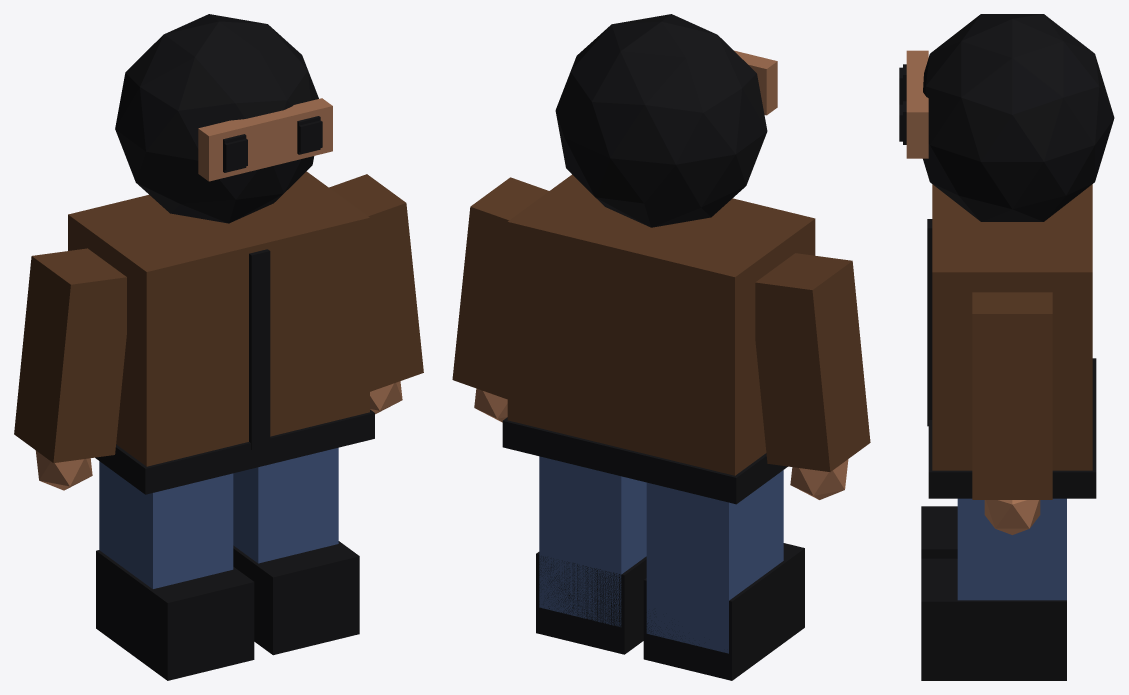
The model's file is Org Sicario.fbx.
The picture shows the model from 3 angles, left to right: view 1: azimuth 30°, elevation 25°; view 2: azimuth 150°, elevation 25°; view 3: azimuth 270°, elevation 25°; orthographic projection. The views are drawn at different scales.
Parts seen in each view (by area): view 1: Org Sicario; view 2: Org Sicario; view 3: Org Sicario.
Boxes of the visible parts, x1,y1,x2,y2 form: Org Sicario: [14, 14, 423, 680]; Org Sicario: [452, 14, 870, 680]; Org Sicario: [899, 14, 1114, 680].
Size of the model in its own units: 0.5977 by 0.93 by 0.295.
